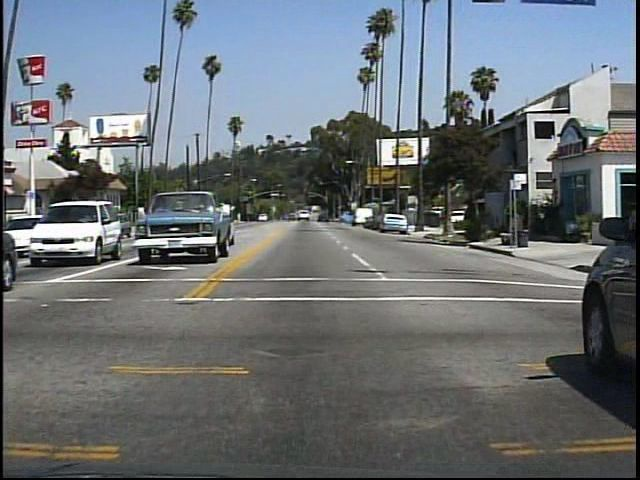person: (480, 199, 503, 245)
